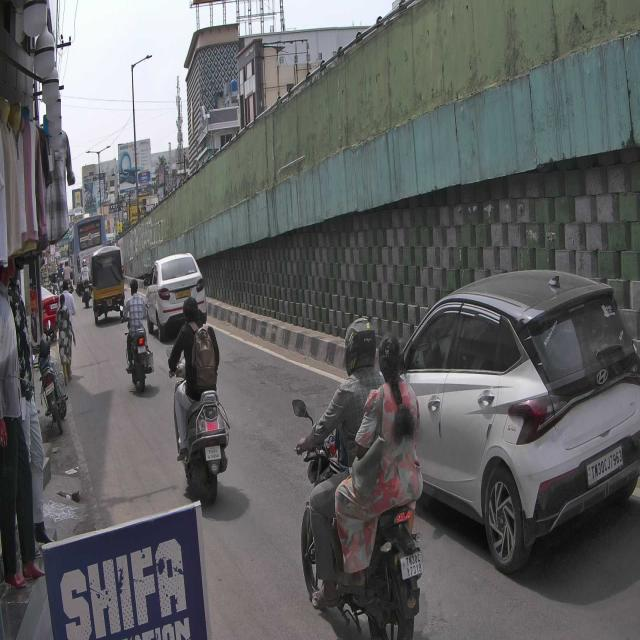double_rider: (294, 318, 424, 640)
single_rider: (166, 295, 231, 509)
